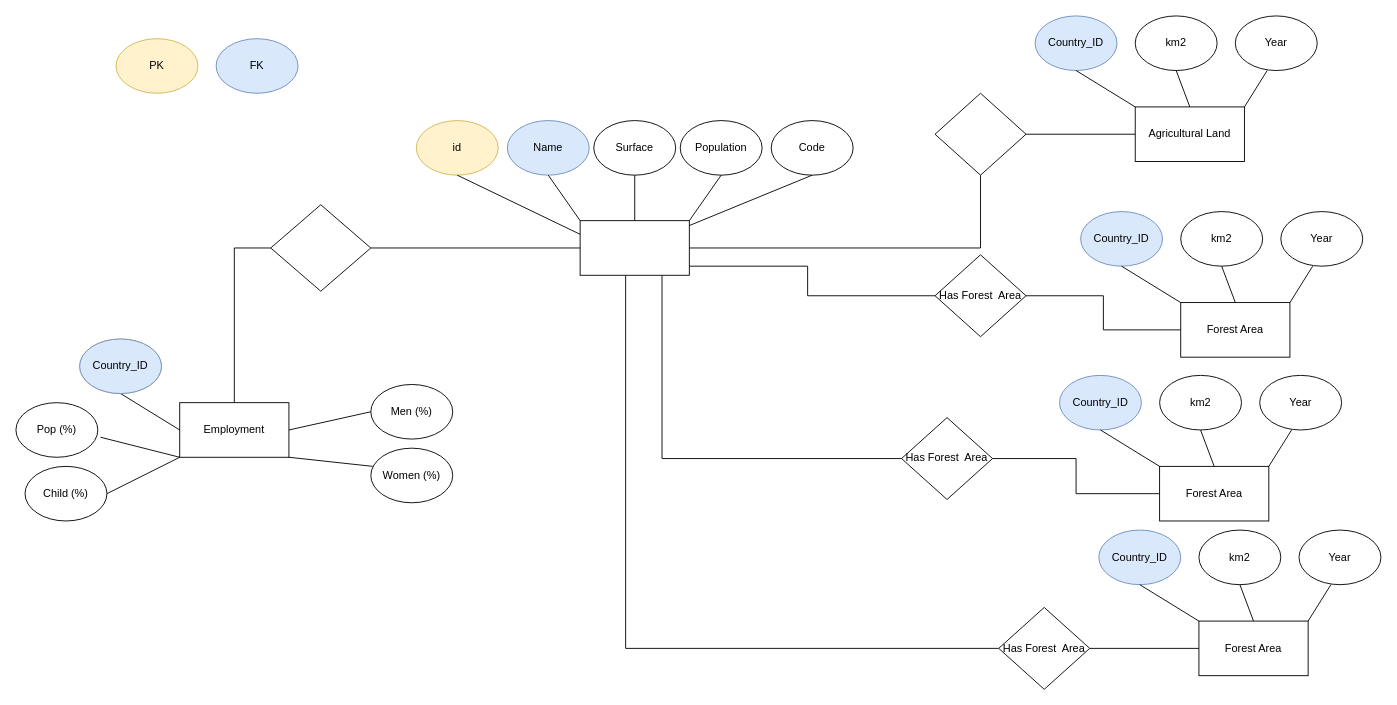
This 1397x705 diagram has some shape labels left out. The centre of each missing label's shape, as x and y in pixels:
Country: (x=634, y=247)
Has Agric Area: (x=980, y=133)
Has Employment by: (x=320, y=247)
